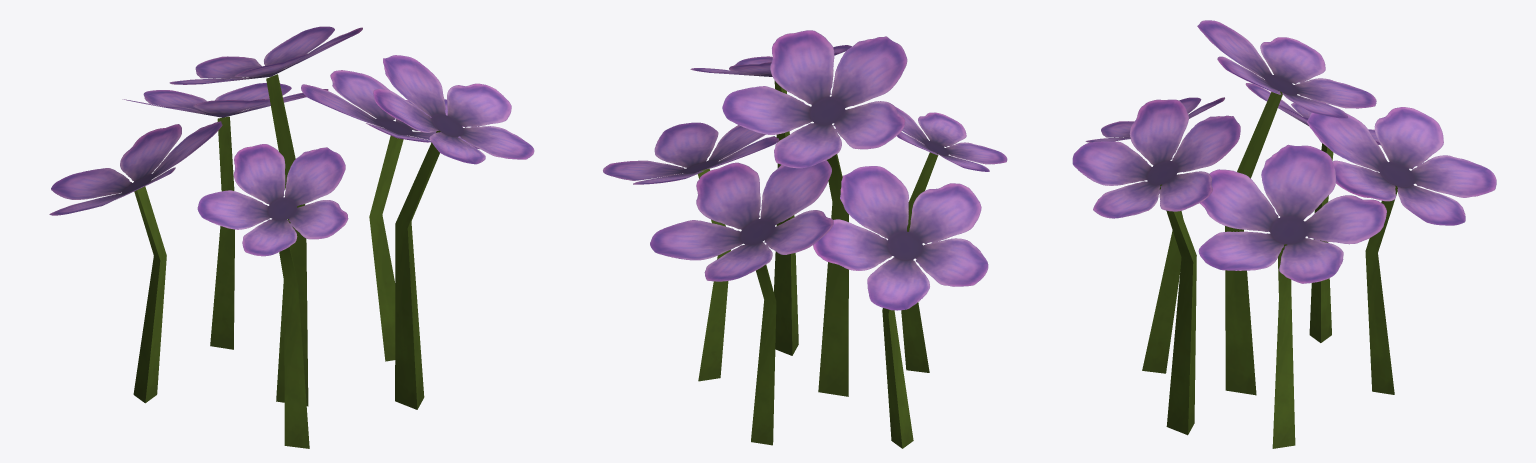
The model's file is flower2.fbx.
3 renders of one model, left to right at view 1: azimuth 30°, elevation 25°; view 2: azimuth 150°, elevation 25°; view 3: azimuth 270°, elevation 25°, orthographic. The views are drawn at different scales.
Parts seen in each view (by area): view 1: polySurface2269; view 2: polySurface2269; view 3: polySurface2269.
Boxes of the visible parts, <box> form: polySurface2269: <box>49,26,534,448</box>; polySurface2269: <box>603,30,1007,448</box>; polySurface2269: <box>1072,20,1496,448</box>.
Bounding box in the file's own units: 0.8219 × 0.6465 × 0.7654.
